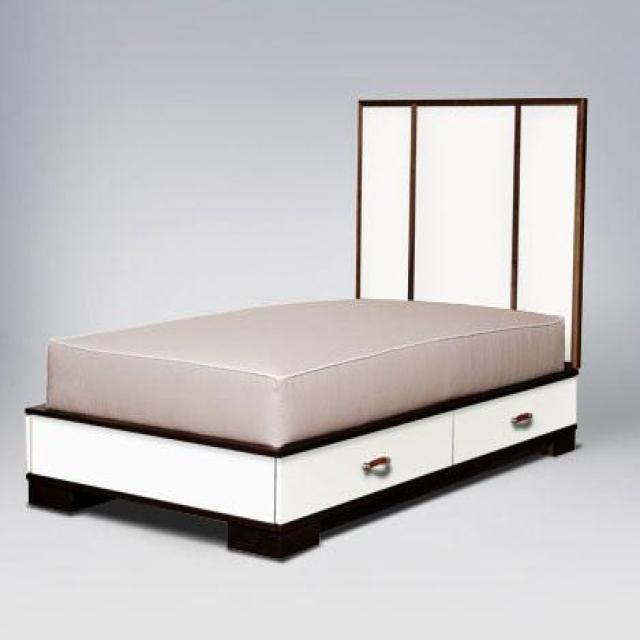bed: (23, 292, 579, 560)
